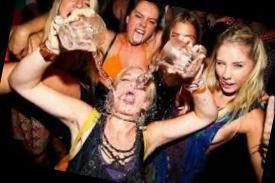Drunk: (215, 43, 252, 94), (116, 70, 147, 115), (129, 3, 157, 45)
